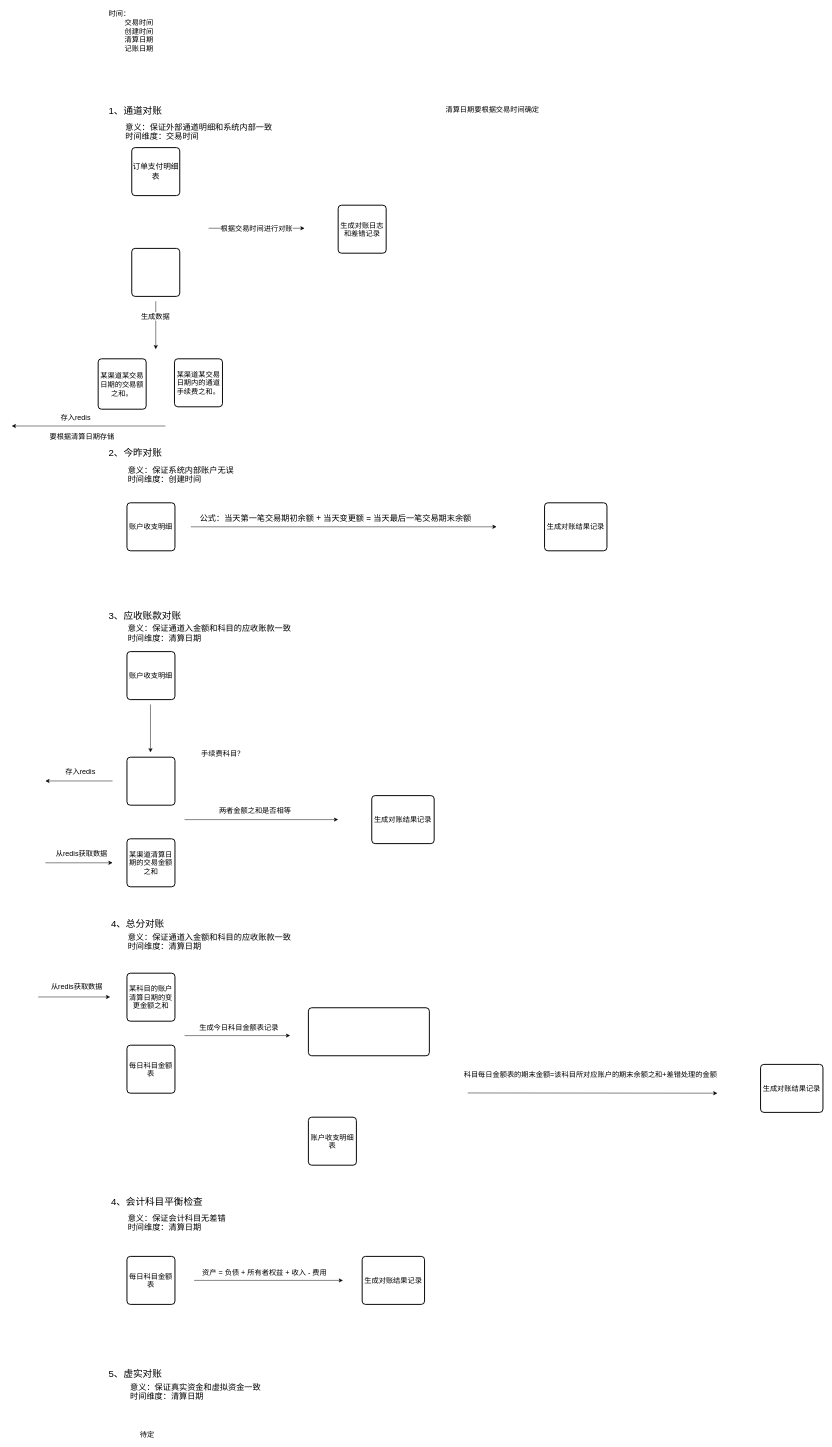
This 832x1447 diagram has some shape labels left out. Here are the shapes that lost their labels. From the top down, the centre of each, then its label:
At [155,272]: "通道对账文件".
At [150,780]: "某科目的账户变更金额之和".
At [369,1031]: "期初金额=昨日期末余额 变更金额=redis中科目的变更金额 期末金额=期初金额+变更金额".
